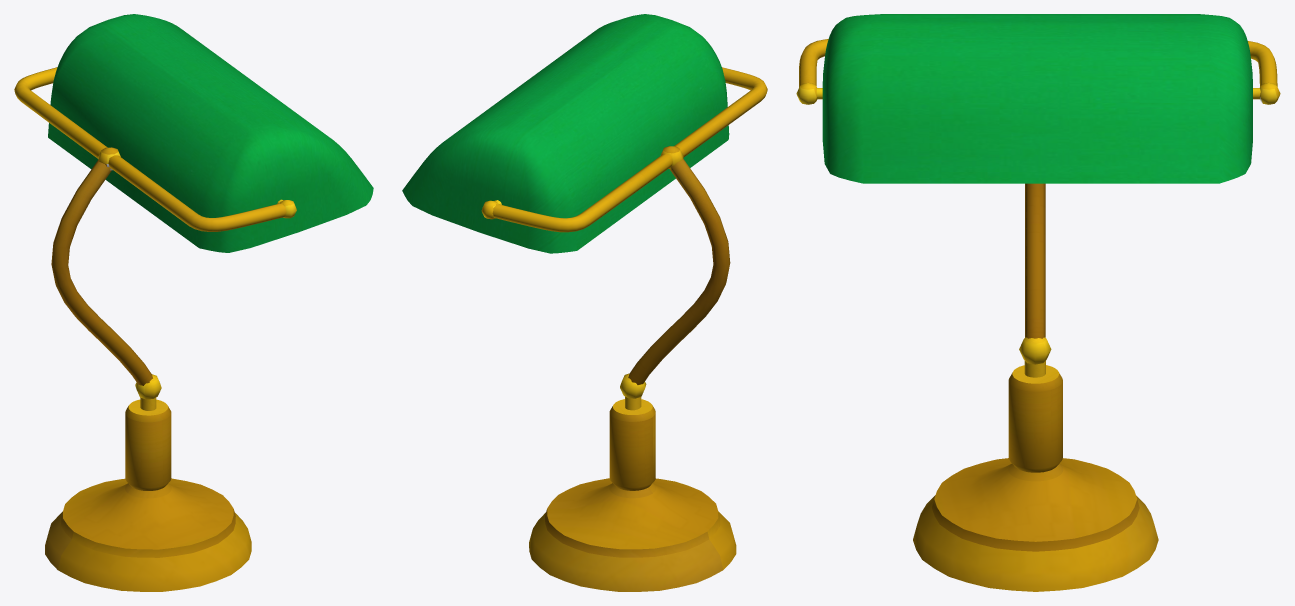
Rendered from lampara.obj.
3 renders of one model, left to right at view 1: azimuth 30°, elevation 25°; view 2: azimuth 150°, elevation 25°; view 3: azimuth 270°, elevation 25°, orthographic. The views are drawn at different scales.
Visible parts, largest first — view 1: Cylinder.003_Cylinder.011; view 2: Cylinder.003_Cylinder.011; view 3: Cylinder.003_Cylinder.011.
Part boxes in pixels (box(x1,y1,x2,y2)): Cylinder.003_Cylinder.011: box(14, 14, 373, 591); Cylinder.003_Cylinder.011: box(402, 14, 767, 591); Cylinder.003_Cylinder.011: box(796, 14, 1280, 591).
Size of the model in its own units: 1.75 by 3.12 by 2.51.
